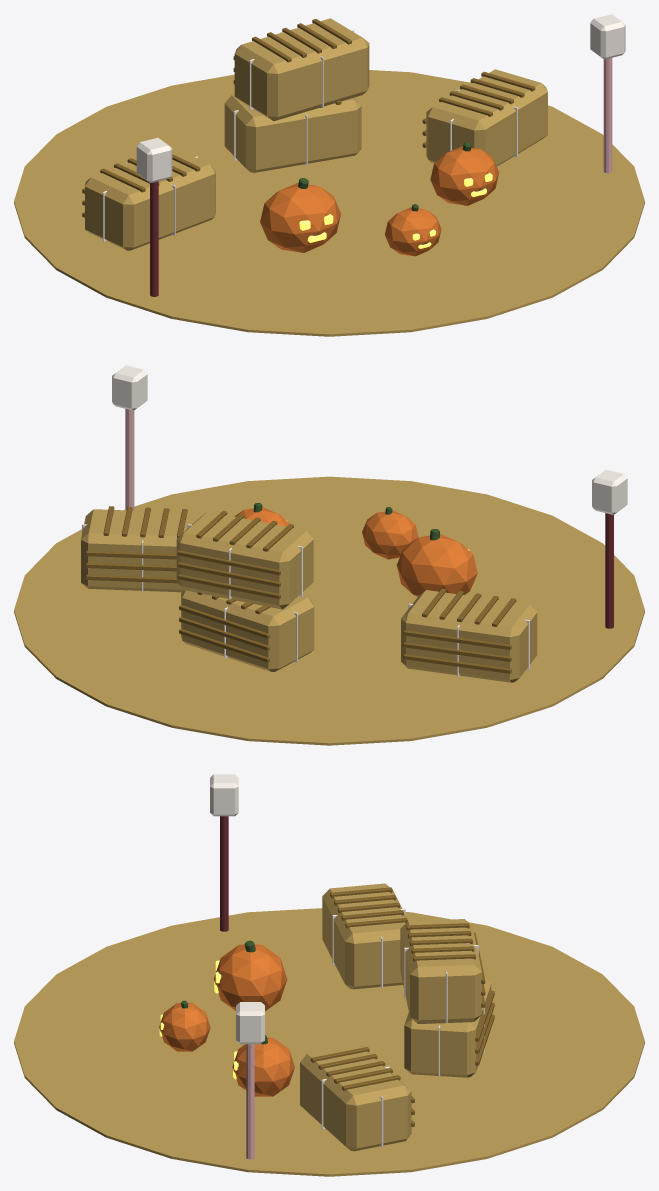
The model's file is HW_NorthLawn.glb.
3 renders of one model, top to bottom at view 1: azimuth 30°, elevation 25°; view 2: azimuth 150°, elevation 25°; view 3: azimuth 270°, elevation 25°, orthographic.
Parts seen in each view (by area): view 1: GroundHint, Hay_B2_Body, Hay_A_Body, Hay_B_Body, Hay_C_Body, Pumpkin_A_Body, Pumpkin_B_Body, Pumpkin_C_Body, Lantern_Wine_Cage, Lantern_Blush_Cage, Lantern_Blush_Pole, Lantern_Wine_Pole; view 2: GroundHint, Hay_B2_Body, Hay_A_Body, Hay_B_Body, Hay_C_Body, Pumpkin_A_Body, Pumpkin_C_Body, Lantern_Blush_Cage, Lantern_Wine_Cage, Lantern_Wine_Pole, Lantern_Blush_Pole, Hay_A_GrooveFront0 (+10 smaller); view 3: GroundHint, Hay_C_Body, Hay_B2_Body, Hay_A_Body, Hay_B_Body, Pumpkin_A_Body, Pumpkin_B_Body, Pumpkin_C_Body, Lantern_Wine_Cage, Lantern_Blush_Cage, Lantern_Wine_Pole, Lantern_Blush_Pole.
Part boxes in pixels (x1,y1,x2,y2): GroundHint: (14, 70, 644, 336); Hay_B2_Body: (234, 18, 369, 121); Hay_A_Body: (85, 146, 215, 250); Hay_B_Body: (224, 94, 361, 172); Hay_C_Body: (426, 69, 547, 166); Pumpkin_A_Body: (260, 183, 340, 252); Pumpkin_B_Body: (430, 146, 499, 205); Pumpkin_C_Body: (385, 207, 441, 256); Lantern_Wine_Cage: (136, 138, 172, 182); Lantern_Blush_Cage: (590, 14, 625, 59); Lantern_Blush_Pole: (603, 58, 612, 173); Lantern_Wine_Pole: (150, 181, 158, 296); GroundHint: (14, 476, 644, 745); Hay_B2_Body: (176, 511, 313, 609); Hay_A_Body: (401, 590, 537, 682); Hay_B_Body: (181, 590, 314, 671); Hay_C_Body: (81, 509, 203, 592); Pumpkin_A_Body: (396, 534, 477, 596); Pumpkin_C_Body: (362, 510, 418, 559); Lantern_Blush_Cage: (112, 365, 147, 410); Lantern_Wine_Cage: (592, 469, 627, 514); Lantern_Wine_Pole: (605, 513, 613, 628); Lantern_Blush_Pole: (125, 409, 134, 510); Hay_A_GrooveFront0: (403, 654, 511, 673); GroundHint: (14, 908, 644, 1176); Hay_C_Body: (300, 1043, 411, 1151); Hay_B2_Body: (400, 919, 481, 1023); Hay_A_Body: (322, 883, 408, 989); Hay_B_Body: (404, 978, 491, 1077); Pumpkin_A_Body: (214, 944, 287, 1011); Pumpkin_B_Body: (232, 1037, 294, 1096); Pumpkin_C_Body: (159, 1003, 210, 1051); Lantern_Wine_Cage: (210, 774, 238, 816); Lantern_Blush_Cage: (236, 1002, 264, 1044); Lantern_Wine_Pole: (220, 816, 228, 931); Lantern_Blush_Pole: (246, 1044, 254, 1159).
Size of the model in its own units: 4.8 by 1.3 by 4.8.
